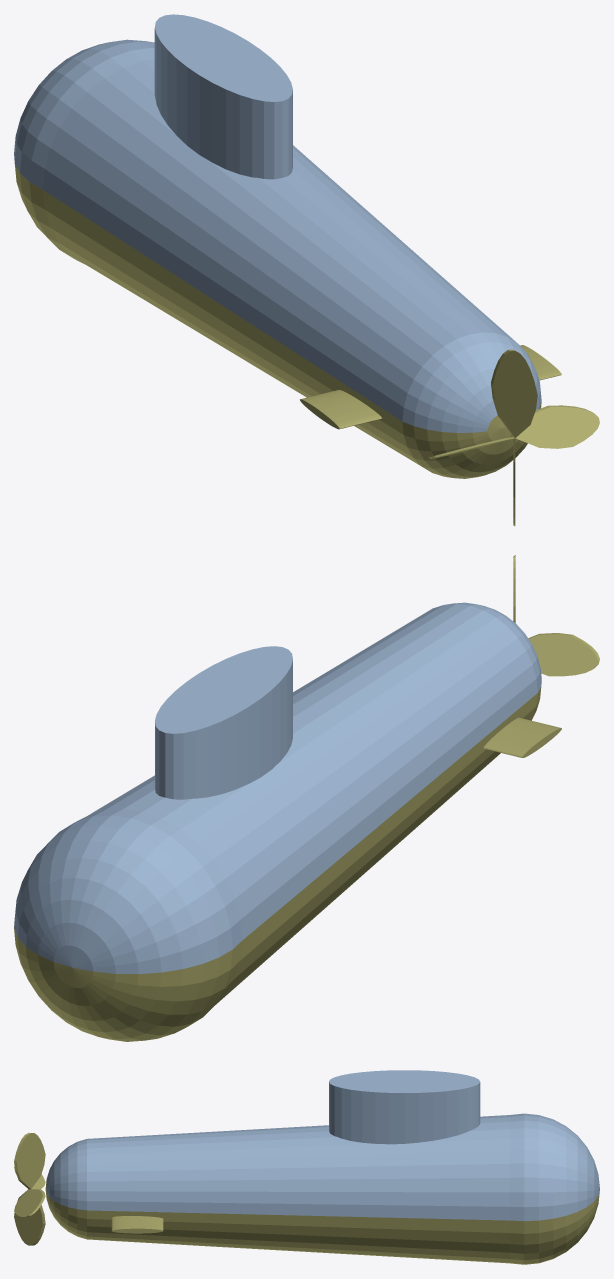
Rendered from Submarine.fbx.
3 views of the same model, one above another, from view 1: azimuth 30°, elevation 25°; view 2: azimuth 150°, elevation 25°; view 3: azimuth 270°, elevation 25° (orthographic). The views are drawn at different scales.
Parts seen in each view (by area): view 1: Sphere, Cylinder, Prop, Cylinder.001; view 2: Sphere, Cylinder, Prop, Cylinder.001; view 3: Sphere, Cylinder, Prop, Cylinder.001.
Part boxes in pixels (box(x1,y1,x2,y2)): Sphere: box(14, 39, 541, 478); Cylinder: box(154, 14, 292, 179); Prop: box(429, 349, 599, 525); Cylinder.001: box(300, 345, 561, 429); Sphere: box(14, 602, 541, 1041); Cylinder: box(155, 646, 292, 799); Prop: box(513, 555, 599, 676); Cylinder.001: box(483, 717, 561, 757); Sphere: box(45, 1113, 599, 1264); Cylinder: box(329, 1070, 480, 1144); Prop: box(14, 1132, 45, 1245); Cylinder.001: box(111, 1216, 163, 1233).
Bounding box in the file's own units: 219 × 257 × 774.
